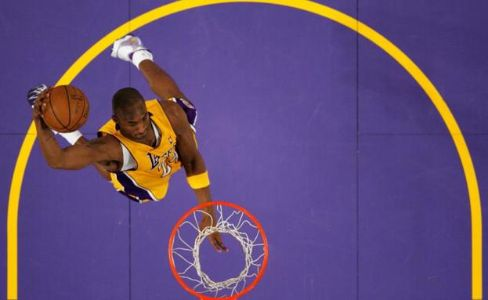baloncesto: (38, 86, 90, 133)
